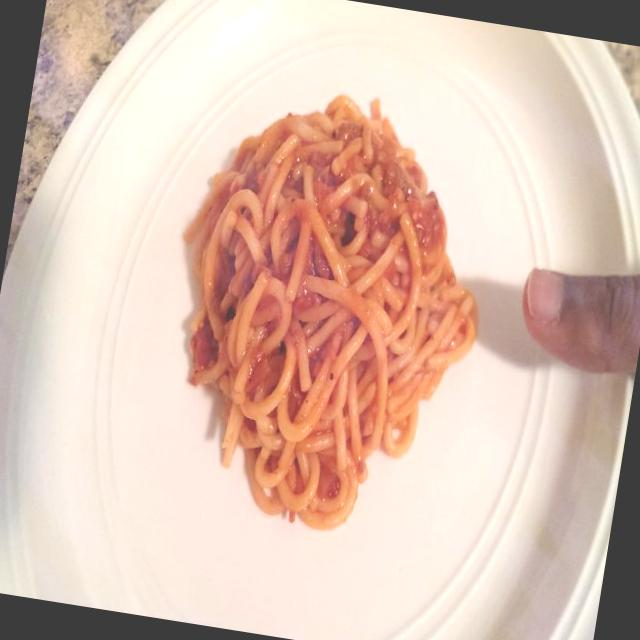Pasta: (100, 49, 524, 568)
